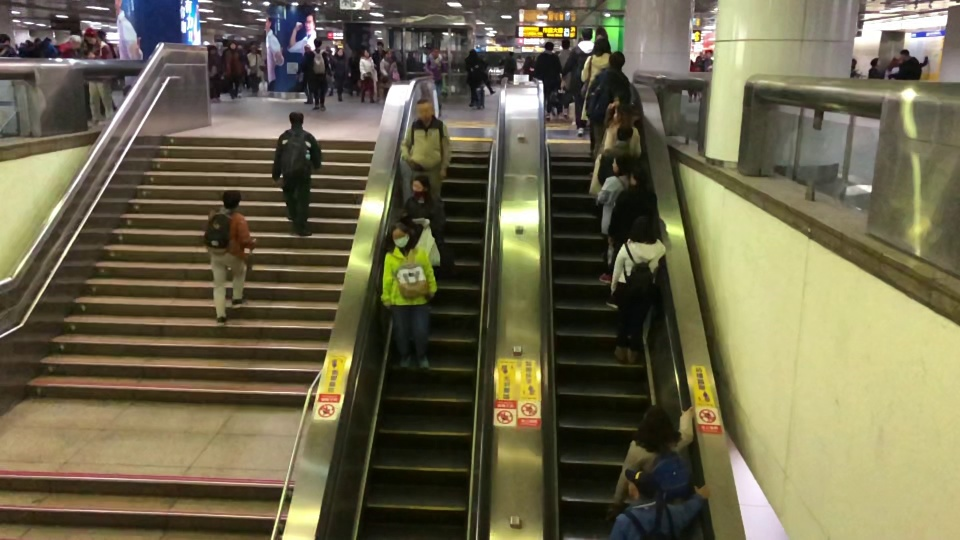person_head: (636, 403, 672, 442), (622, 468, 657, 501), (629, 212, 657, 245), (387, 220, 414, 248), (394, 212, 417, 239), (409, 175, 432, 199), (610, 151, 632, 176), (612, 103, 633, 127), (628, 166, 649, 189), (414, 97, 434, 121), (221, 189, 242, 210), (611, 90, 632, 110), (616, 124, 635, 144), (591, 37, 611, 55), (608, 50, 626, 70), (83, 27, 100, 46), (289, 110, 304, 129), (581, 26, 593, 41), (899, 47, 911, 62), (890, 55, 901, 68), (227, 40, 239, 51), (431, 46, 440, 60), (313, 37, 323, 49), (468, 47, 478, 59), (207, 44, 218, 54), (544, 40, 554, 51), (560, 38, 570, 49), (870, 57, 881, 67), (302, 44, 311, 56), (382, 48, 391, 60), (335, 47, 345, 57), (249, 43, 258, 54), (361, 49, 371, 58), (704, 49, 712, 60)
person_vbox: (612, 403, 697, 508), (378, 223, 437, 369), (612, 213, 666, 364), (604, 166, 659, 309), (201, 188, 257, 326), (608, 466, 711, 540), (587, 104, 642, 231), (596, 125, 647, 258), (398, 172, 446, 310), (271, 111, 323, 237), (591, 93, 643, 215), (583, 51, 632, 179), (399, 96, 451, 204), (596, 154, 638, 283), (560, 27, 595, 138), (580, 38, 612, 156), (80, 28, 118, 127), (536, 40, 564, 119), (306, 37, 334, 112), (463, 48, 496, 110), (218, 42, 250, 99), (423, 48, 448, 117), (203, 45, 227, 102), (556, 38, 572, 122), (379, 47, 401, 105), (888, 49, 929, 80), (296, 43, 316, 105), (243, 42, 265, 96), (357, 48, 378, 104), (331, 46, 351, 101), (866, 58, 886, 80), (882, 56, 901, 79), (698, 49, 715, 72)
